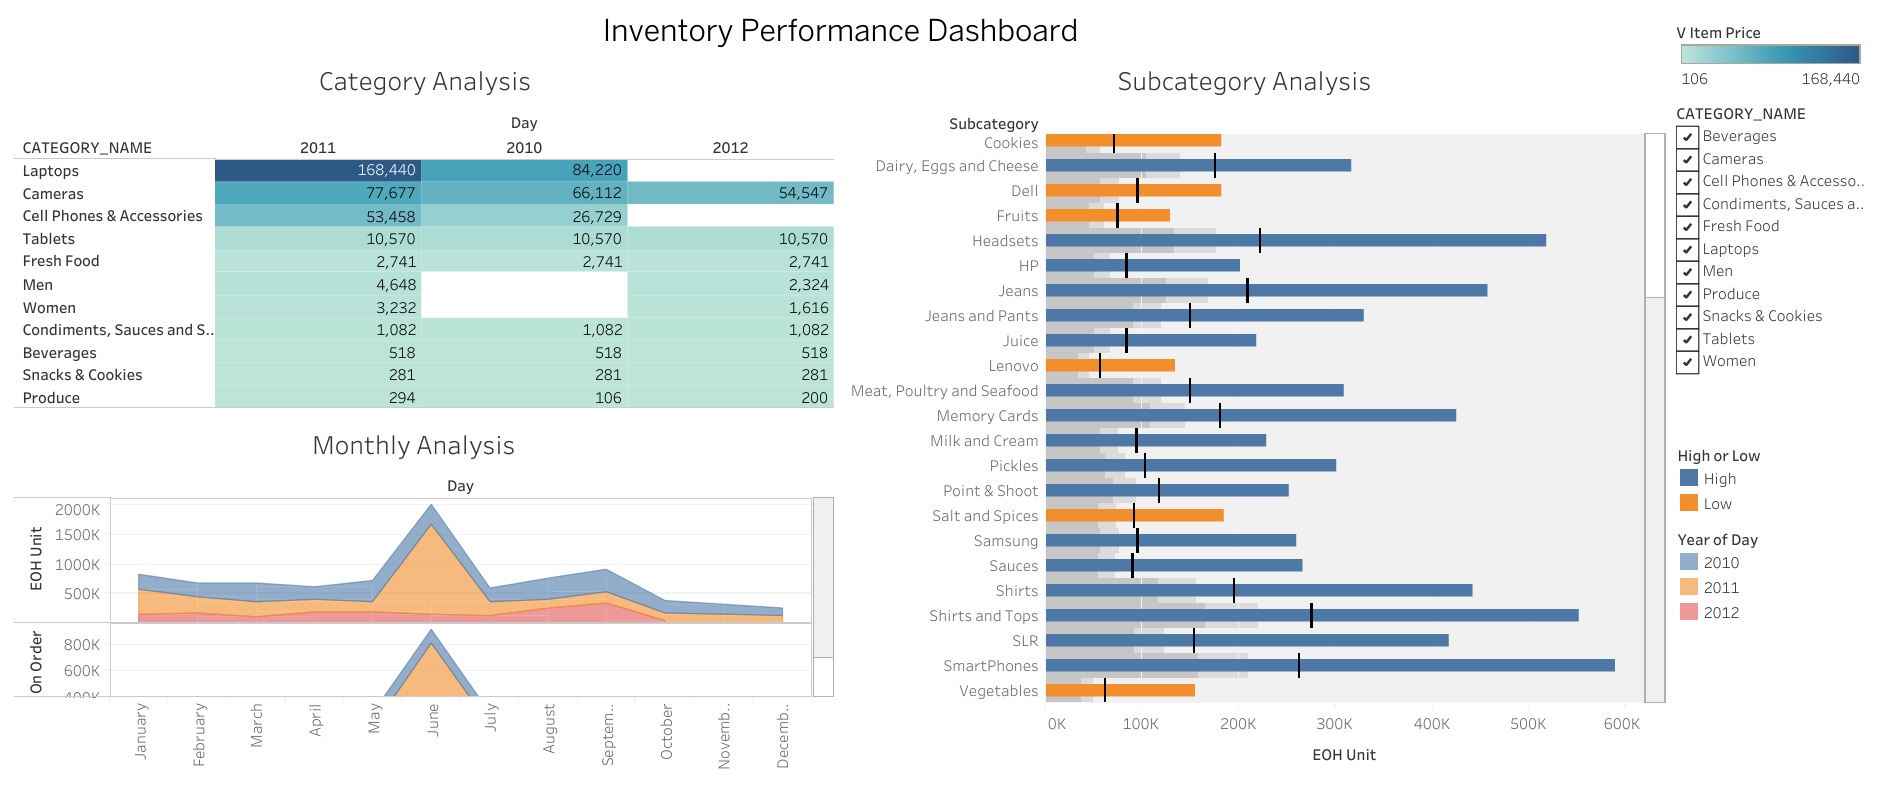

Layout of this report page (visuals, bound fields, positions):
{"tool":"tableau","page":{"name":"Inventory Performance Dashboard","canvas":[1000,1000],"units":"permille","ordinal":0},"visuals":[{"type":"title","box":[4.8,9.3,893.8,37.2]},{"type":"legend","title":"Category Analysis","param":"[federated.0stq3pm0vzlnae1dms6wo1qqt639].[sum:V_Item_Price:qk]","box":[898.6,9.3,96.6,84.8]},{"type":"worksheet","title":"Category Analysis","mark":"Square","rows":["CATEGORY_NAME"],"cols":["Day"],"box":[4.8,46.5,446.9,472.1]},{"type":"worksheet","title":"Subcategory Analysis","mark":"Automatic","rows":["SUBCATEGORY"],"cols":["EOH_Unit"],"box":[451.7,46.5,446.9,944.3]},{"type":"filter","title":"Subcategory Analysis","param":"[federated.0stq3pm0vzlnae1dms6wo1qqt639].[none:CATEGORY_NAME:nk]","box":[898.6,94.1,96.6,362.4]},{"type":"legend","title":"Subcategory Analysis","param":"[federated.0stq3pm0vzlnae1dms6wo1qqt639].[usr:Calculation_1139692202829750272:nk","box":[898.6,456.4,96.6,83.6]},{"type":"worksheet","title":"Monthly Analysis","mark":"Area","rows":["EOH_Unit","On_Order"],"cols":["Day"],"box":[4.8,518.6,446.9,472.1]},{"type":"legend","title":"Monthly Analysis","param":"[federated.0stq3pm0vzlnae1dms6wo1qqt639].[yr:Day:ok]","box":[898.6,540.1,96.6,108]}]}

Visuals, with their boxes on the dashboard's canvas, which has no fixed pixel size, in thousandths of its width and height (x1, y1, x2, y2). These are canvas units, not pixel positions in the 1880x788 screenshot, which may show the page scaled, cropped or inside an application window:
title: [5,9,899,46]
"Category Analysis" legend: [899,9,995,94]
"Category Analysis" worksheet (Square marks): [5,46,452,519]
"Subcategory Analysis" worksheet: [452,46,899,991]
"Subcategory Analysis" filter: [899,94,995,456]
"Subcategory Analysis" legend: [899,456,995,540]
"Monthly Analysis" worksheet (Area marks): [5,519,452,991]
"Monthly Analysis" legend: [899,540,995,648]
